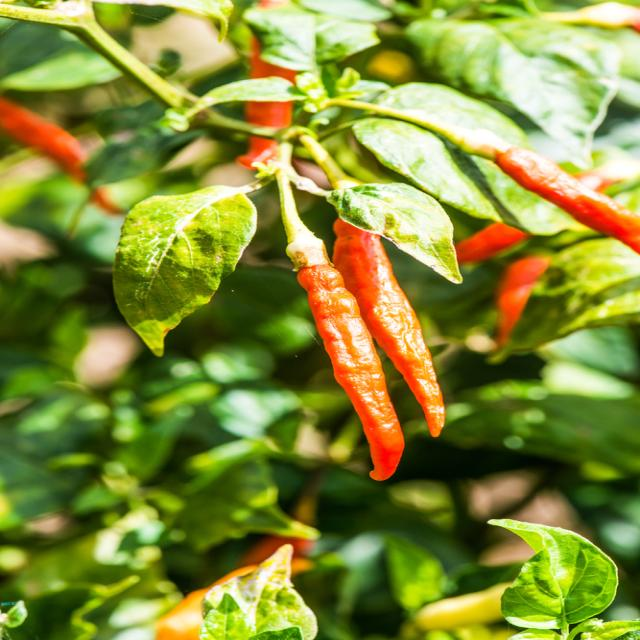Ripe: (334, 219, 444, 436), (298, 265, 405, 480), (497, 146, 639, 253), (497, 256, 551, 347), (455, 222, 530, 263)
Unripe: (414, 582, 512, 631)
